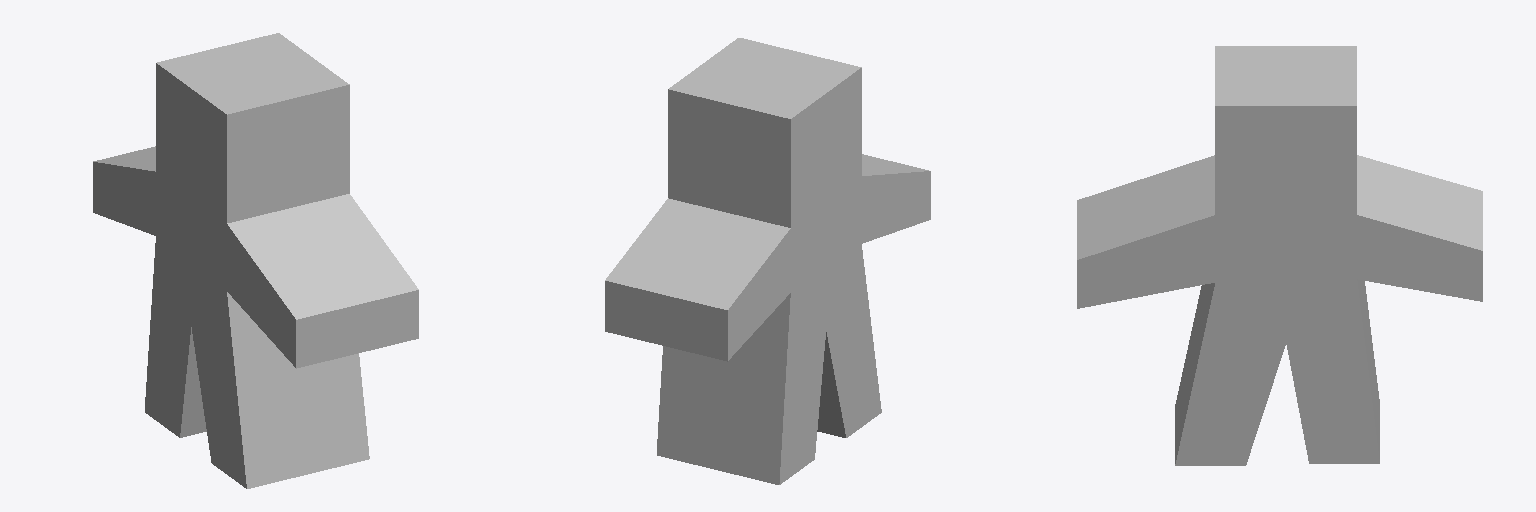
Rendered from basicmodel.obj.
3 renders of one model, left to right at view 1: azimuth 30°, elevation 25°; view 2: azimuth 150°, elevation 25°; view 3: azimuth 270°, elevation 25°, orthographic.
Visible parts, largest first — view 1: Cube; view 2: Cube; view 3: Cube.
Part boxes in pixels (x1,y1,x2,y2): Cube: (93,33,418,488); Cube: (605,38,930,484); Cube: (1077,46,1482,465).
Size of the model in its own units: 2 by 5.6 by 5.73.